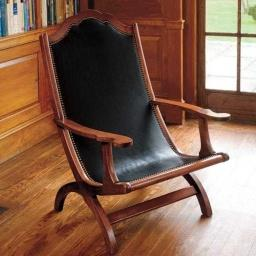Chair: (38, 11, 227, 251)
